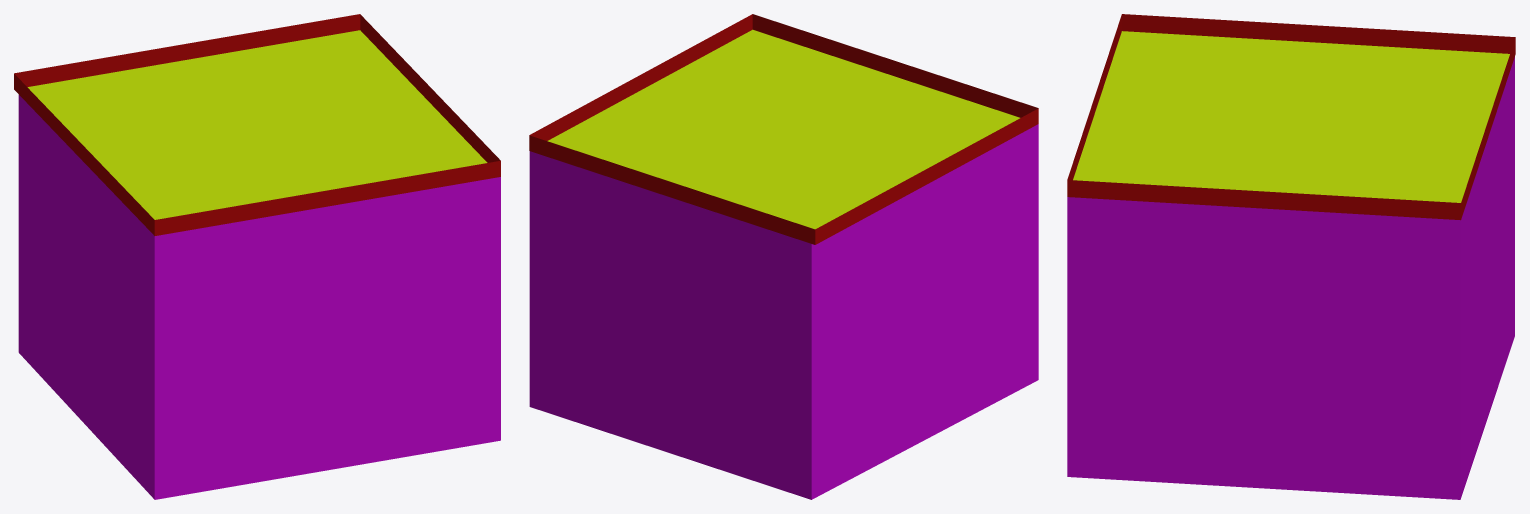
Rendered from bgj_294.glb.
3 views of the same model, side by side, from view 1: azimuth 30°, elevation 25°; view 2: azimuth 150°, elevation 25°; view 3: azimuth 270°, elevation 25° (orthographic). The views are drawn at different scales.
Parts seen in each view (by area): view 1: bgj_294; view 2: bgj_294; view 3: bgj_294.
Part boxes in pixels (<box>): bgj_294: <box>14,14,500,499</box>; bgj_294: <box>529,14,1038,499</box>; bgj_294: <box>1067,14,1515,499</box>.
Size of the model in its own units: 8.28 by 6.07 by 8.3.
